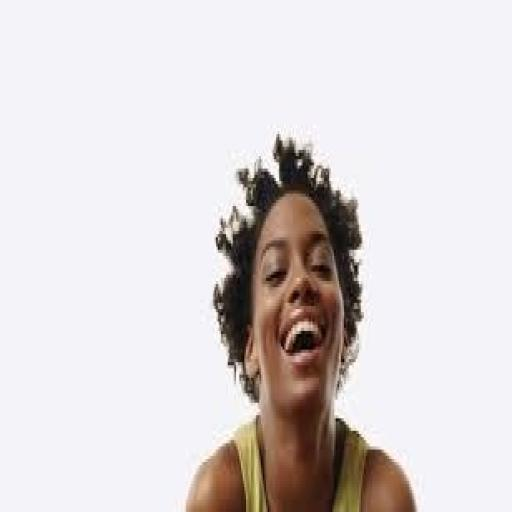laughing: (179, 122, 419, 506)
